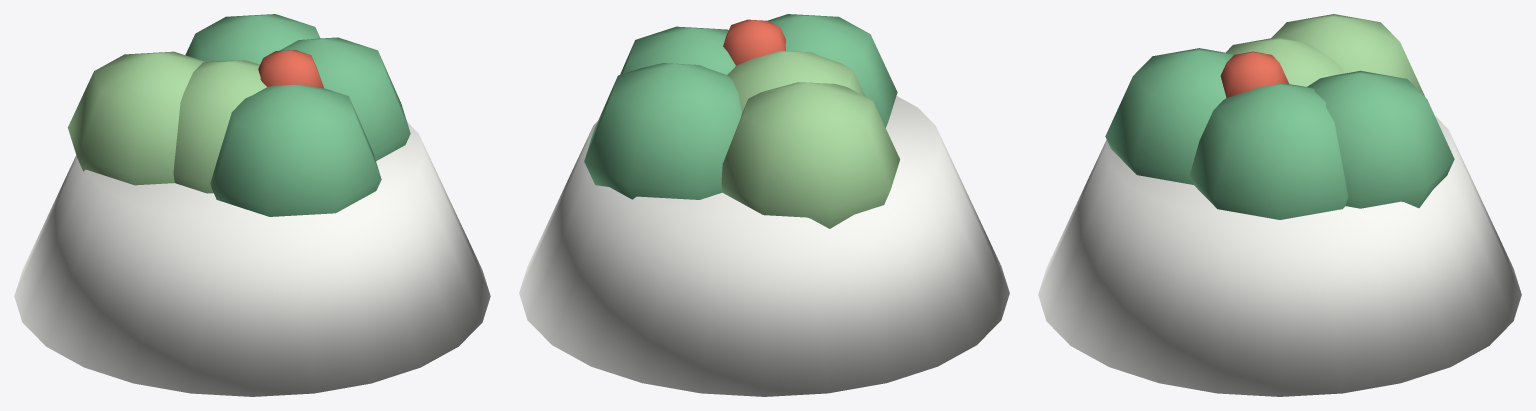
Rendered from SM_SaladBowl.fbx.
3 views of the same model, side by side, from view 1: azimuth 30°, elevation 25°; view 2: azimuth 150°, elevation 25°; view 3: azimuth 270°, elevation 25° (orthographic). The views are drawn at different scales.
Parts seen in each view (by area): view 1: SM_SaladBowl; view 2: SM_SaladBowl; view 3: SM_SaladBowl.
Boxes of the visible parts, box(x1,y1,x2,y2) form: SM_SaladBowl: box(14, 14, 490, 396); SM_SaladBowl: box(519, 14, 1009, 396); SM_SaladBowl: box(1038, 14, 1521, 396).
Bounding box in the file's own units: 0.18 × 0.104 × 0.18.
